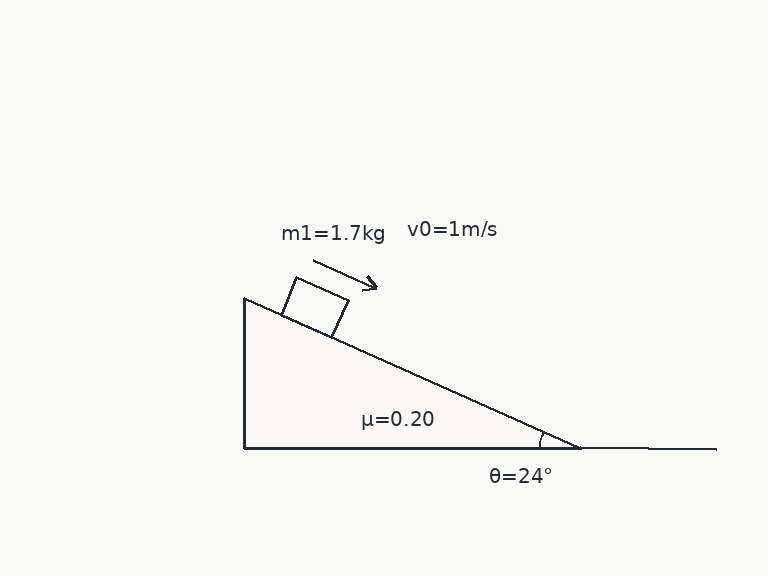block: (278, 275, 350, 339)
ramp: (242, 296, 582, 450)
